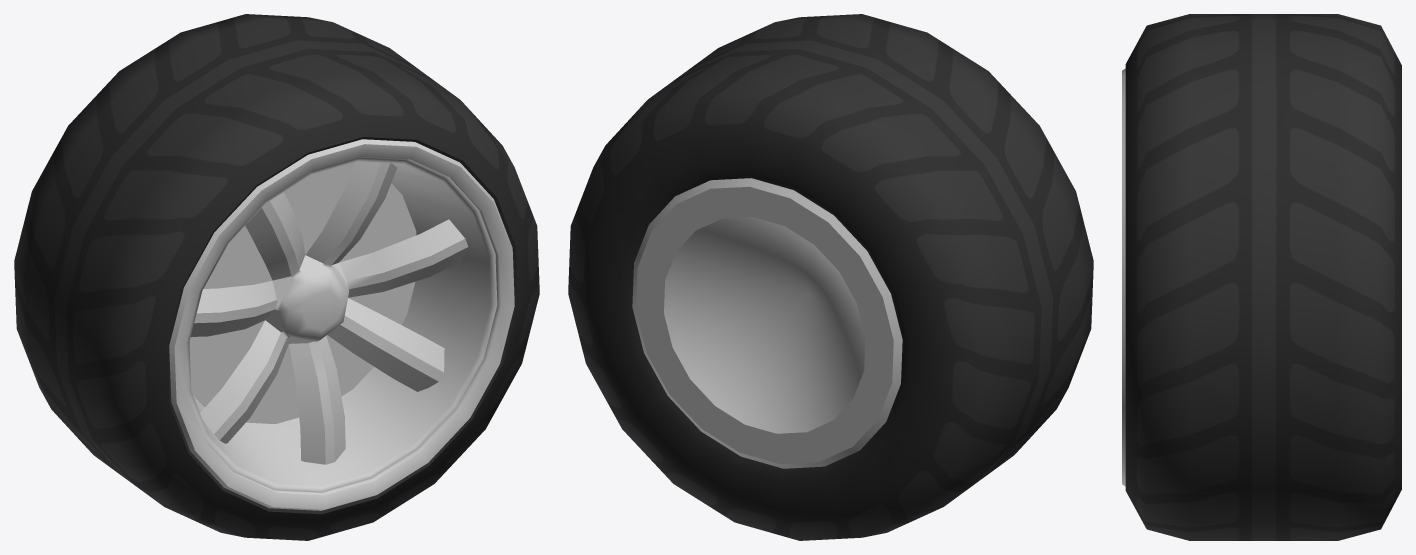
File: Wheel_10.fbx
The picture shows the model from 3 angles, left to right: view 1: azimuth 30°, elevation 25°; view 2: azimuth 150°, elevation 25°; view 3: azimuth 270°, elevation 25°; orthographic projection. The views are drawn at different scales.
Parts seen in each view (by area): view 1: Wheel_10; view 2: Wheel_10; view 3: Wheel_10.
Part boxes in pixels (x1,y1,x2,y2): Wheel_10: [14, 14, 539, 540]; Wheel_10: [568, 14, 1093, 540]; Wheel_10: [1122, 14, 1401, 540].
Bounding box in the file's own units: 94.96 × 50.66 × 94.96.
